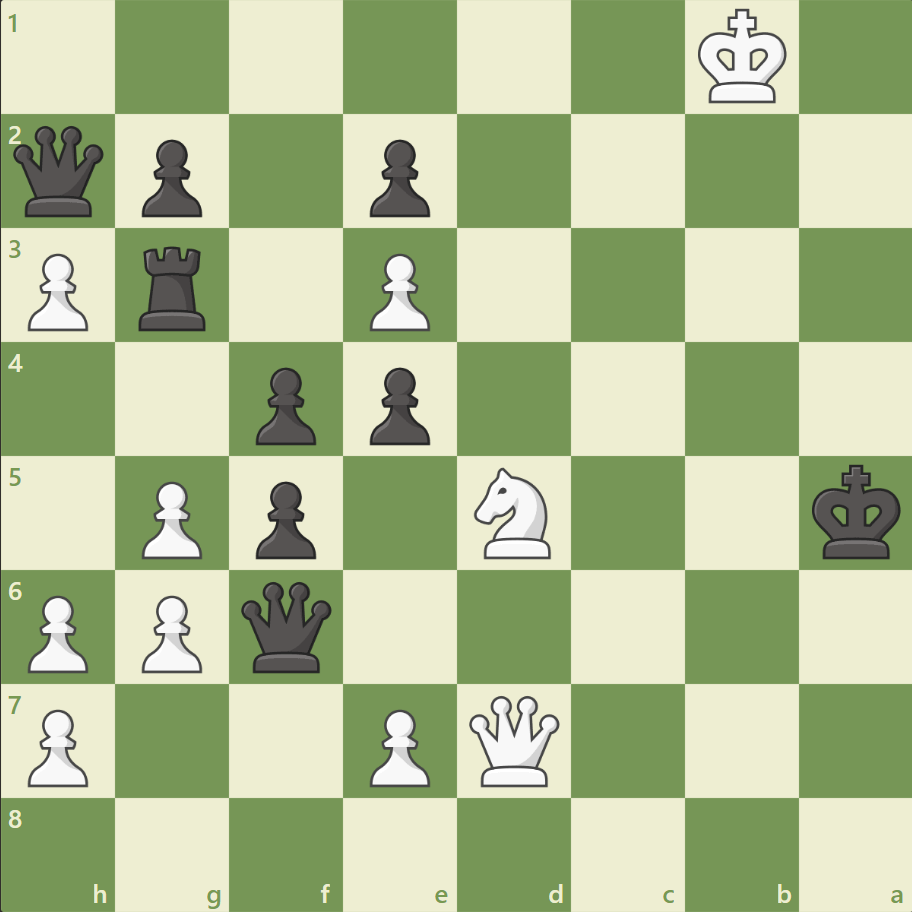K: (692, 4, 792, 112)
N: (465, 461, 562, 564)
P: (20, 700, 95, 791), (133, 586, 208, 677), (20, 586, 95, 677), (133, 473, 208, 564), (20, 246, 95, 337), (361, 700, 435, 791), (361, 246, 435, 337)
Q: (464, 690, 563, 789)
k: (806, 458, 906, 566)
p: (247, 473, 322, 564), (247, 359, 322, 450), (133, 132, 208, 223), (361, 359, 435, 450), (361, 132, 435, 223)
q: (237, 576, 336, 676), (10, 122, 109, 222)
r: (133, 239, 215, 336)
